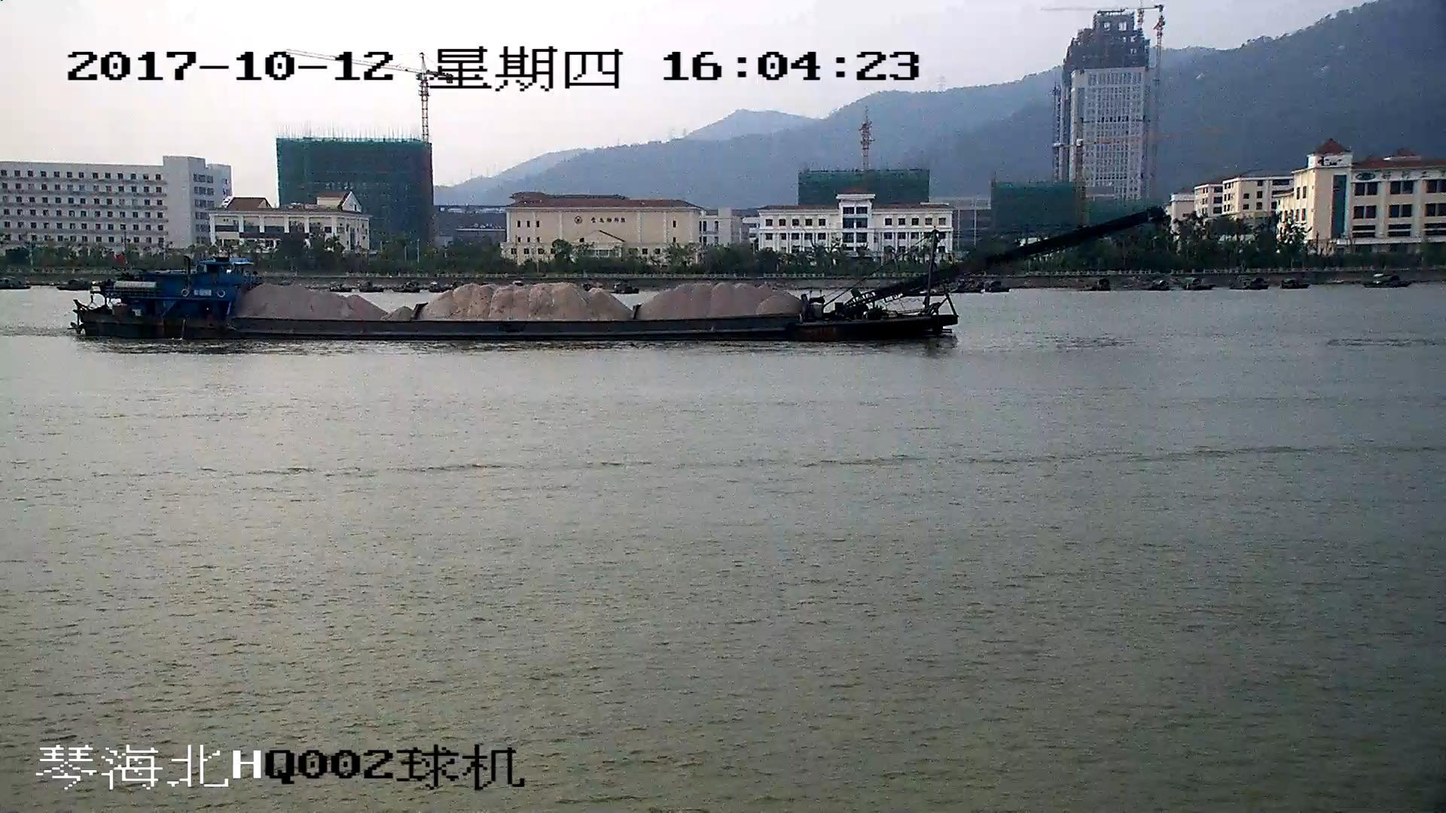ore carrier: (77, 211, 1160, 339)
